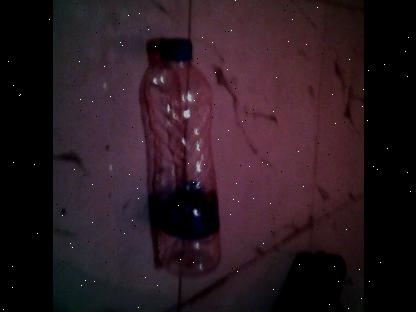Plastic Bottle: (140, 37, 223, 276)
